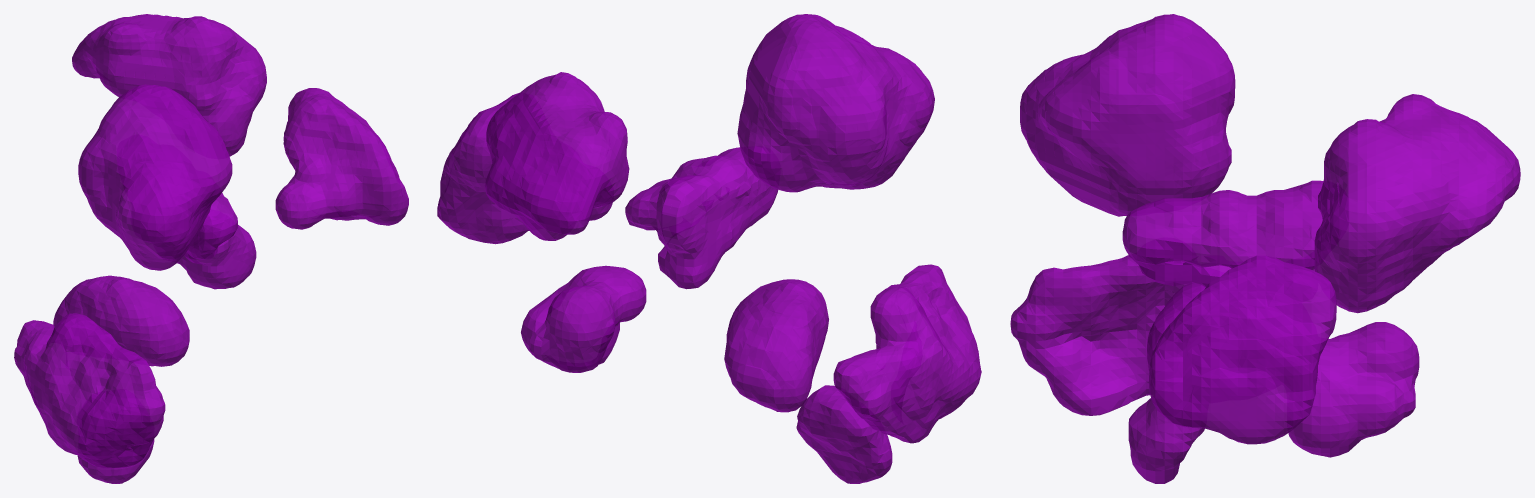
Rendered from tumor_cases.glb.
The picture shows the model from 3 angles, left to right: view 1: azimuth 30°, elevation 25°; view 2: azimuth 150°, elevation 25°; view 3: azimuth 270°, elevation 25°; orthographic projection. The views are drawn at different scales.
Parts seen in each view (by area): view 1: tumor_right SMA, tumor_right insula, tumor_left superior parietal, tumor_left supramarginal, tumor_right thalamus, tumor_left retrolentiform, tumor_left cingulum, tumor_right amygdalo tumor; view 2: tumor_right SMA, tumor_left superior parietal, tumor_right insula, tumor_left cingulum, tumor_right thalamus, tumor_left retrolentiform, tumor_left supramarginal, tumor_right amygdalo tumor; view 3: tumor_right SMA, tumor_left superior parietal, tumor_left supramarginal, tumor_right insula, tumor_left cingulum, tumor_left retrolentiform, tumor_right amygdalo tumor, tumor_right thalamus.
Part boxes in pixels (x1,y1,x2,y2): tumor_right SMA: (78, 84, 232, 270); tumor_right insula: (14, 313, 165, 468); tumor_left superior parietal: (72, 14, 266, 156); tumor_left supramarginal: (275, 88, 408, 229); tumor_right thalamus: (53, 275, 189, 366); tumor_left retrolentiform: (177, 225, 256, 289); tumor_left cingulum: (181, 192, 237, 260); tumor_right amygdalo tumor: (77, 439, 154, 483); tumor_right SMA: (737, 14, 934, 192); tumor_left superior parietal: (485, 72, 629, 240); tumor_right insula: (833, 264, 981, 443); tumor_left cingulum: (625, 147, 778, 289); tumor_right thalamus: (724, 279, 828, 412); tumor_left retrolentiform: (521, 265, 646, 372); tumor_left supramarginal: (437, 93, 612, 244); tumor_right amygdalo tumor: (796, 385, 892, 483); tumor_right SMA: (1020, 14, 1235, 216); tumor_left superior parietal: (1314, 94, 1520, 313); tumor_left supramarginal: (1149, 255, 1336, 444); tumor_right insula: (1010, 255, 1187, 415); tumor_left cingulum: (1122, 180, 1323, 287); tumor_left retrolentiform: (1288, 322, 1419, 457); tumor_right amygdalo tumor: (1128, 398, 1204, 483); tumor_right thalamus: (1147, 283, 1205, 370).
Bounding box in the file's own units: 119 × 116 × 111.
